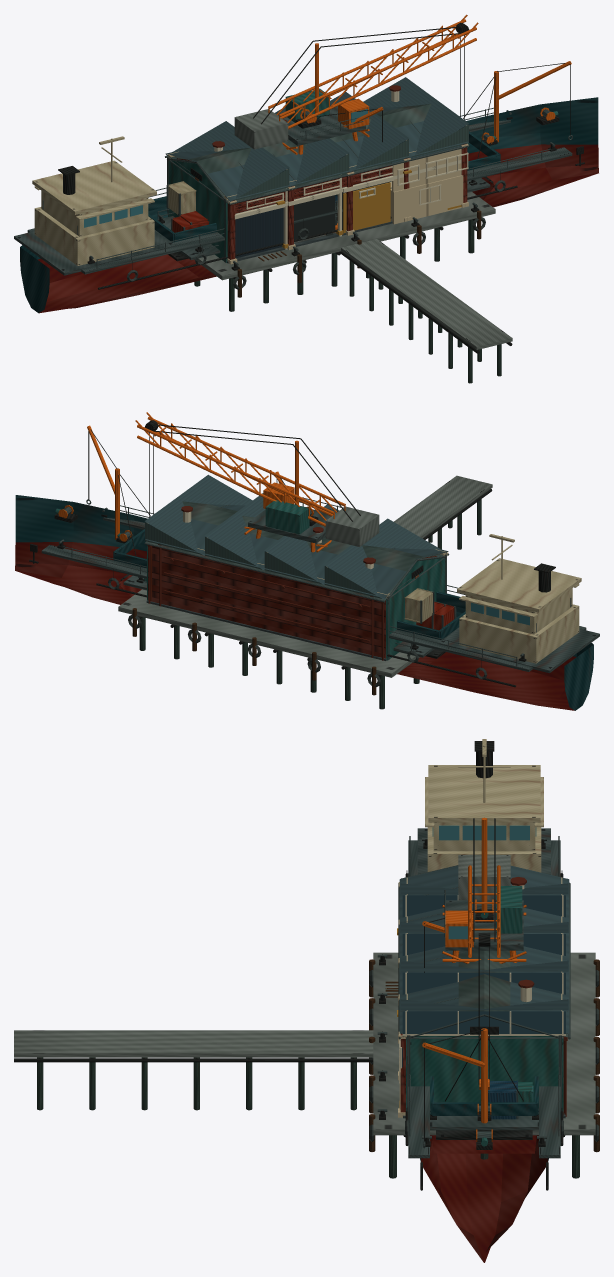
Rendered from coast-frontage-lod.glb.
The picture shows the model from 3 angles, top to bottom: view 1: azimuth 30°, elevation 25°; view 2: azimuth 150°, elevation 25°; view 3: azimuth 270°, elevation 25°; orthographic projection. The views are drawn at different scales.
Parts seen in each view (by area): view 1: cargo-freighter, sawtooth-maintenance-hall, loading-pier, harbor-crane, brick-repair-shed, open-warehouse, cargo-barge; view 2: cargo-freighter, brick-repair-shed, sawtooth-maintenance-hall, loading-pier, harbor-crane, open-warehouse, cargo-barge; view 3: cargo-freighter, loading-pier, sawtooth-maintenance-hall, open-warehouse, harbor-crane, brick-repair-shed, cargo-barge.
Part boxes in pixels (x1=…): cargo-freighter: x1=14, y1=61, x2=598, y2=313; sawtooth-maintenance-hall: x1=166, y1=77, x2=469, y2=263; loading-pier: x1=194, y1=192, x2=512, y2=383; harbor-crane: x1=234, y1=14, x2=478, y2=154; brick-repair-shed: x1=165, y1=107, x2=468, y2=264; open-warehouse: x1=165, y1=104, x2=469, y2=262; cargo-barge: x1=154, y1=177, x2=494, y2=277; cargo-freighter: x1=15, y1=425, x2=599, y2=710; brick-repair-shed: x1=145, y1=504, x2=448, y2=659; sawtooth-maintenance-hall: x1=145, y1=474, x2=446, y2=660; loading-pier: x1=118, y1=475, x2=492, y2=709; harbor-crane: x1=135, y1=412, x2=379, y2=552; open-warehouse: x1=144, y1=501, x2=449, y2=660; cargo-barge: x1=119, y1=575, x2=459, y2=675; cargo-freighter: x1=405, y1=739, x2=563, y2=1262; loading-pier: x1=14, y1=952, x2=599, y2=1178; sawtooth-maintenance-hall: x1=399, y1=877, x2=568, y2=1117; open-warehouse: x1=385, y1=882, x2=570, y2=1116; harbor-crane: x1=442, y1=817, x2=526, y2=1089; brick-repair-shed: x1=397, y1=865, x2=569, y2=1118; cargo-barge: x1=430, y1=1082, x2=538, y2=1153.
Bounding box in the file's own units: 66 × 23.75 × 44.84.
